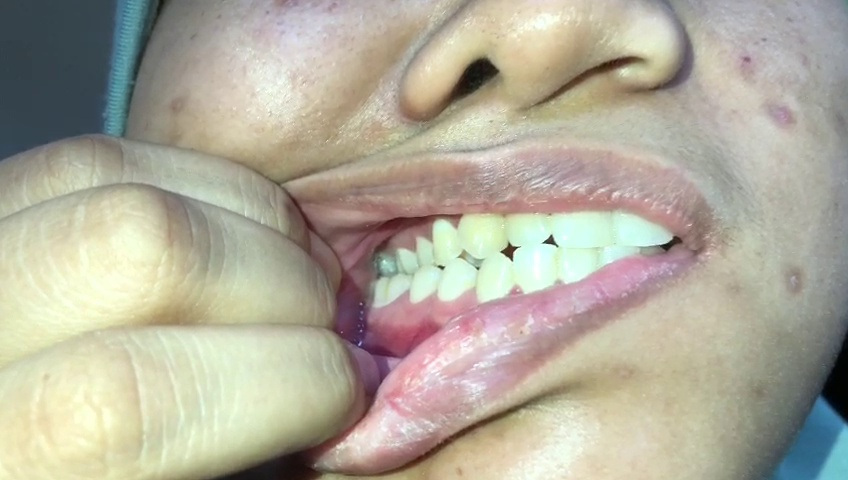1st Molar: (388, 270, 413, 307), (393, 245, 418, 273)
1st Premolar: (438, 258, 476, 305), (431, 218, 463, 270)
2nd Molar: (370, 278, 388, 308), (376, 251, 396, 276)
2nd Premolar: (409, 261, 441, 308), (413, 234, 434, 269)
Canine: (458, 202, 509, 260), (475, 248, 512, 306)
Lateral Incisor: (511, 241, 559, 297)
